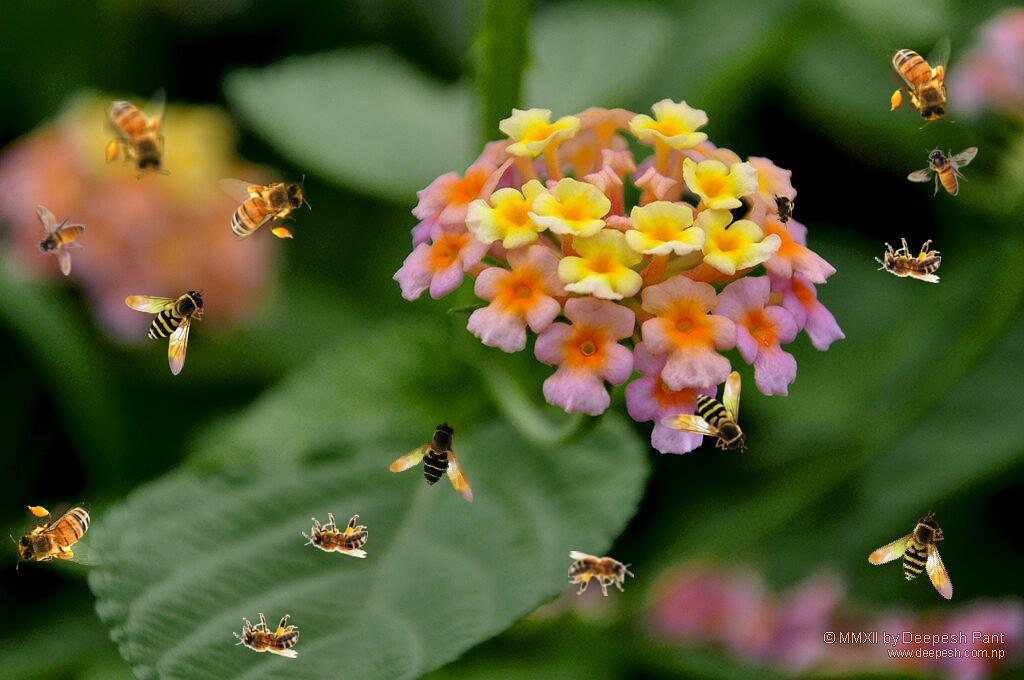Bee: (381, 413, 499, 533), (862, 508, 978, 626), (125, 288, 207, 376), (660, 371, 748, 453), (10, 502, 103, 570), (887, 36, 955, 129), (103, 87, 171, 180), (218, 174, 311, 242), (907, 146, 978, 196), (35, 205, 85, 276), (233, 613, 299, 658), (875, 238, 941, 283), (302, 513, 368, 558), (568, 551, 634, 596), (773, 190, 795, 230)
